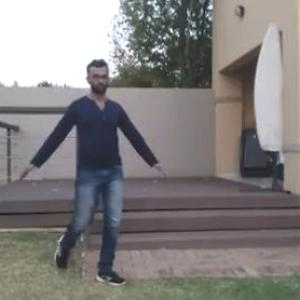land: (20, 56, 161, 286)
